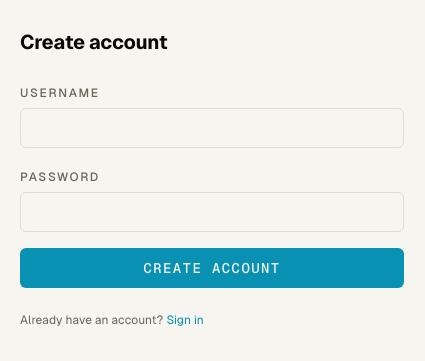
it: RegisterPage › falls back to a generic message for other failures
Type "newcomer" into the field labelled "Username" at [212, 128], box [20,108,404,148]
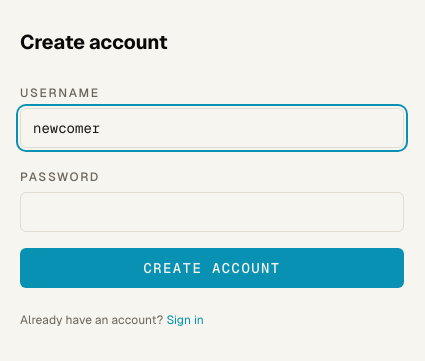
Type "password123" into the password field labelled "Password" at [212, 212], box [20,192,404,232]
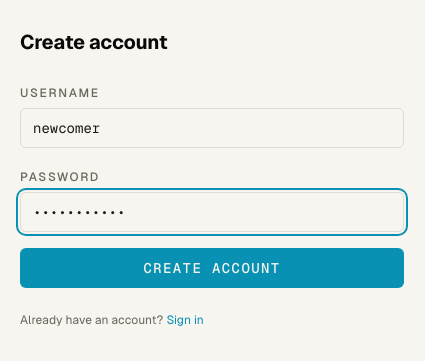
Click the button "Create account" at [212, 268], box [20,248,404,288]
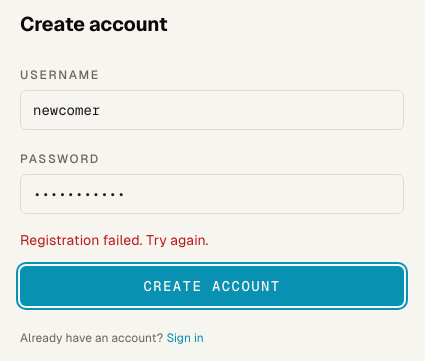
Now the text "Registration failed. Try again." is shown, box [20,232,208,248]
